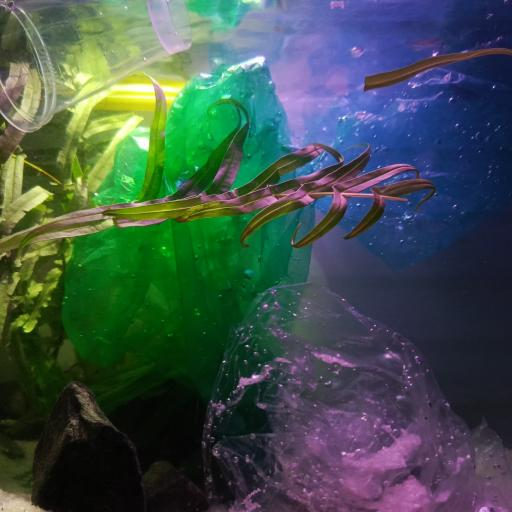plastic_bag: (60, 54, 314, 392), (200, 278, 511, 512), (270, 0, 511, 279)
plastic_cup: (1, 0, 192, 134)
plastic_straw: (94, 87, 178, 116)
